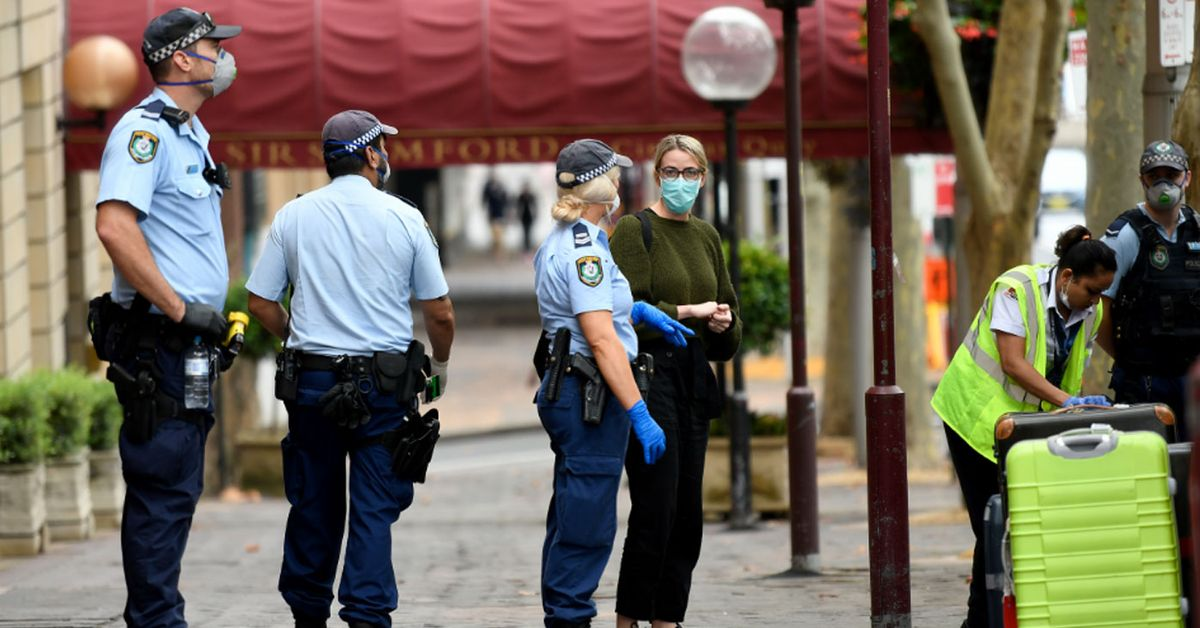Person: (246, 107, 455, 628), (96, 6, 240, 628), (532, 137, 643, 628), (640, 133, 738, 628), (931, 226, 1117, 409), (1115, 141, 1200, 403)
